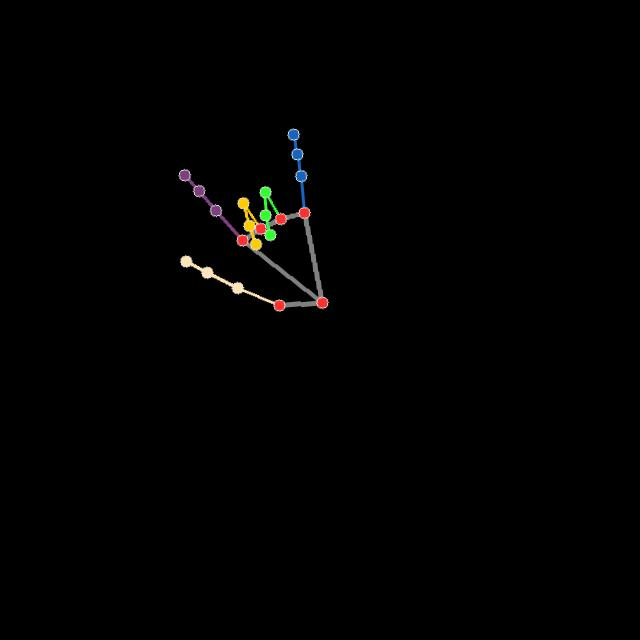spiderman: (167, 128, 328, 321)
